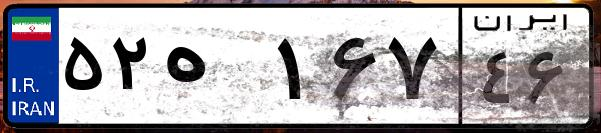1: (270, 28, 330, 110)
2: (110, 28, 158, 98)
4: (475, 38, 525, 113)
5: (57, 26, 110, 100)
6: (330, 28, 385, 110), (525, 38, 570, 115)
7: (385, 28, 445, 110)
ه: (158, 20, 270, 120)
